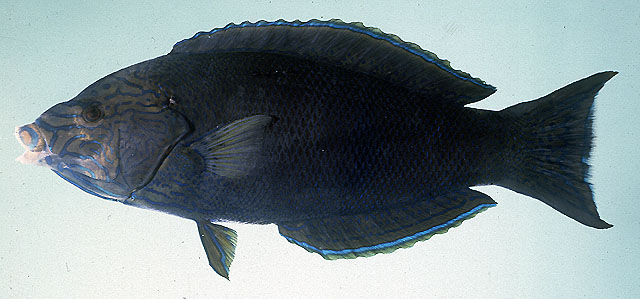fish: (16, 18, 620, 279)
